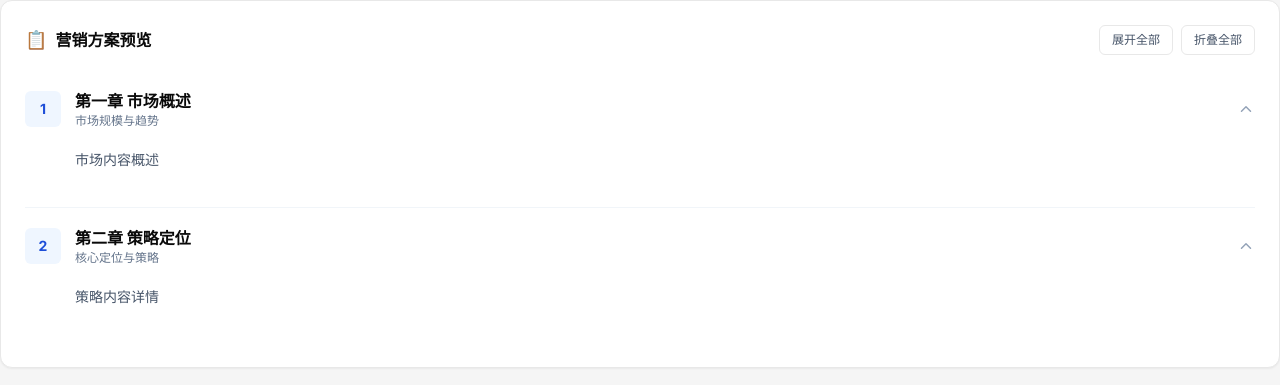
Test: PlanPreview › toggles chapter content on click
Expected: the text "市场内容概述" is shown, [75,151,159,168]
Click the heading "第一章 市场概述". click: (133, 101)
box: [75,89,191,113]
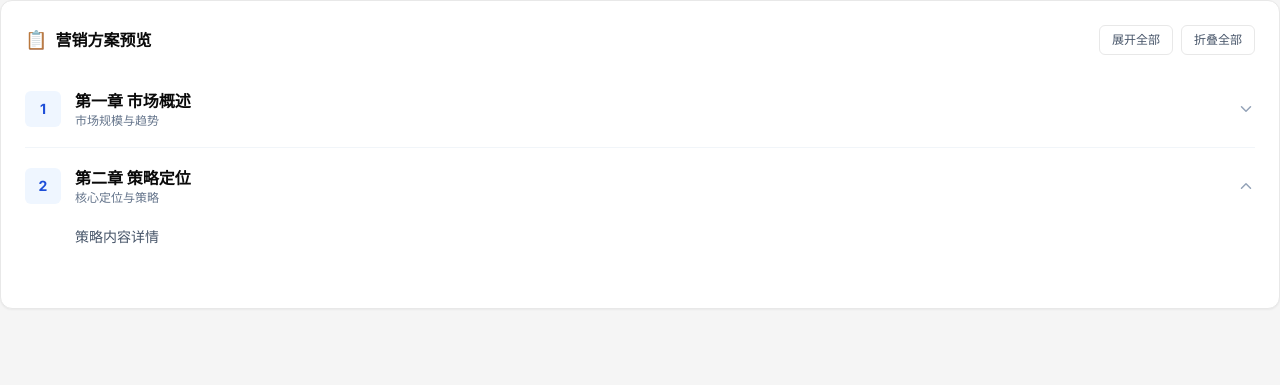
Now the text "市场内容概述" is gone
Click the heading "第一章 市场概述". click: (133, 101)
box: [75,89,191,113]
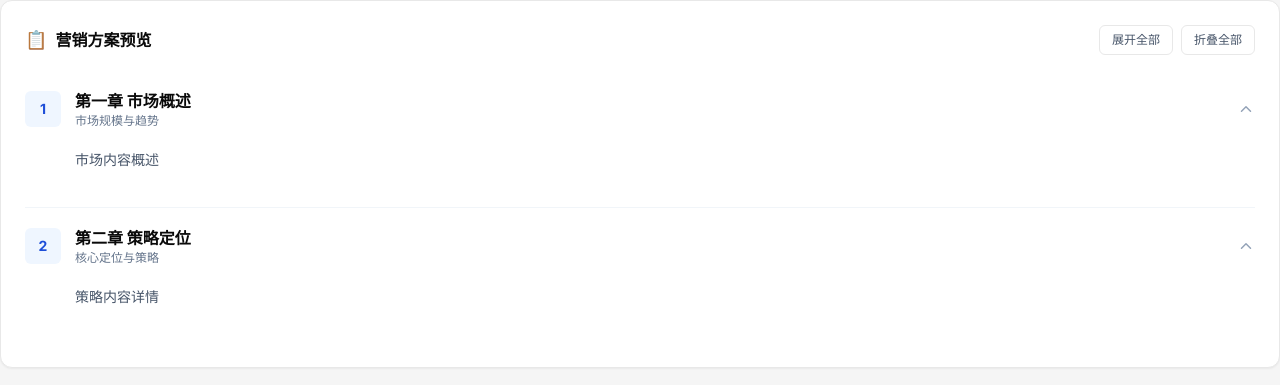
Now the text "市场内容概述" is shown, box [75,151,159,168]
